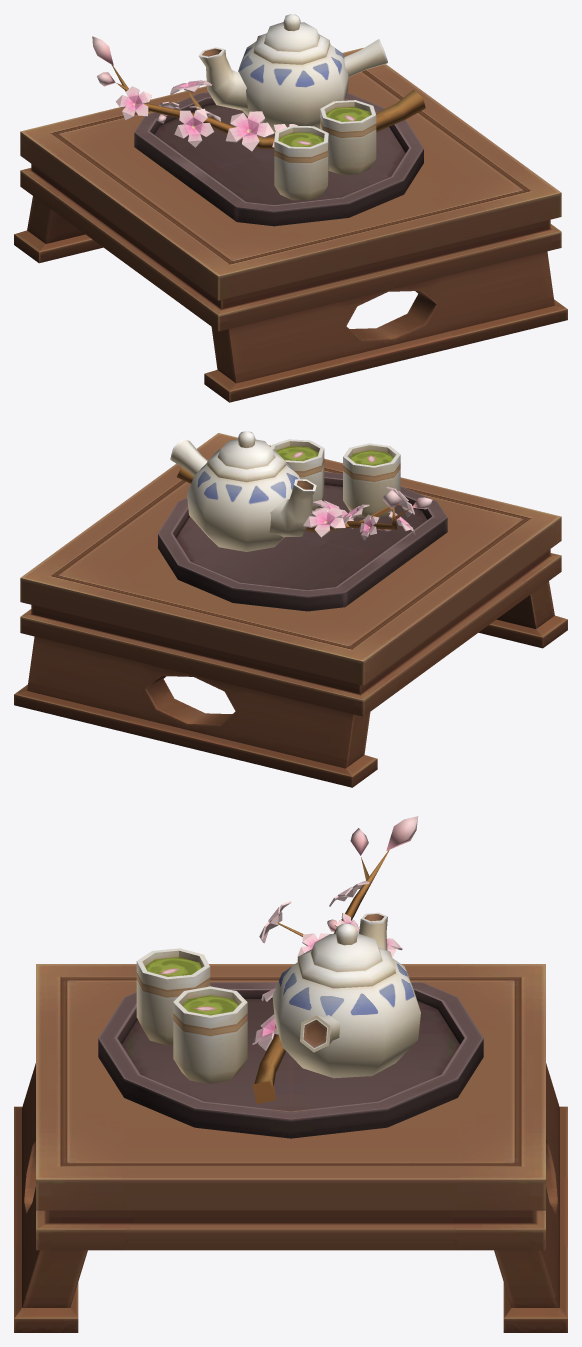
The model's file is my_hyakkiyako_01_table_03.glb.
3 views of the same model, one above another, from view 1: azimuth 30°, elevation 25°; view 2: azimuth 150°, elevation 25°; view 3: azimuth 270°, elevation 25° (orthographic). The views are drawn at different scales.
Parts seen in each view (by area): view 1: my_hyakkiyako_01_table_03; view 2: my_hyakkiyako_01_table_03; view 3: my_hyakkiyako_01_table_03.
Boxes of the visible parts, x1,y1,x2,y2 form: my_hyakkiyako_01_table_03: [14, 14, 567, 402]; my_hyakkiyako_01_table_03: [14, 431, 567, 787]; my_hyakkiyako_01_table_03: [14, 816, 567, 1332].
Size of the model in its own units: 0.00448 by 0.00308 by 0.00487.
Materials: 1 (1 with a texture image).
